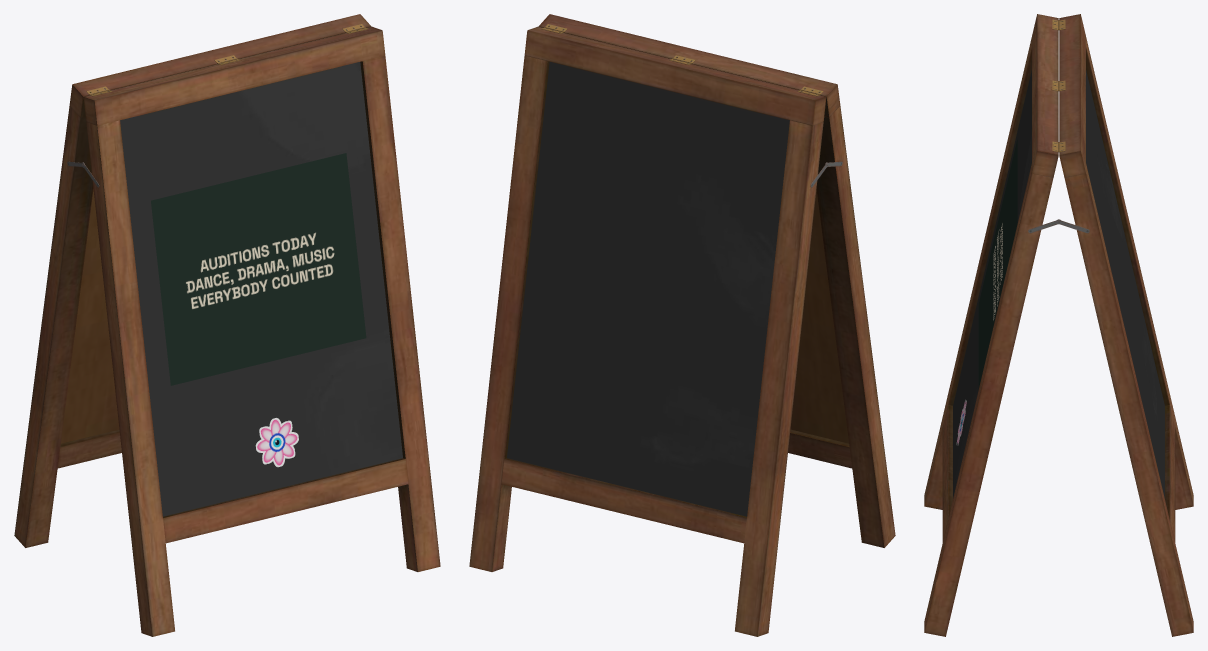
Rendered from nyb_fame_aframe.glb.
3 renders of one model, left to right at view 1: azimuth 30°, elevation 25°; view 2: azimuth 150°, elevation 25°; view 3: azimuth 270°, elevation 25°, orthographic. The views are drawn at different scales.
Visible parts, largest first — view 1: standing_chalkboard_01, stk_lbl_5fc3f4c17d.png, stk_eyeflower_die.png; view 2: standing_chalkboard_01; view 3: standing_chalkboard_01, stk_lbl_5fc3f4c17d.png.
Boxes of the visible parts, x1,y1,x2,y2 form: standing_chalkboard_01: (14,14,440,636); stk_lbl_5fc3f4c17d.png: (151,153,366,385); stk_eyeflower_die.png: (255,417,298,467); standing_chalkboard_01: (469,14,895,636); standing_chalkboard_01: (924,14,1193,636); stk_lbl_5fc3f4c17d.png: (978,139,1017,388).
Size of the model in its own units: 0.9195 by 1.51 by 0.7587.
Materials: 4 (4 with a texture image).
